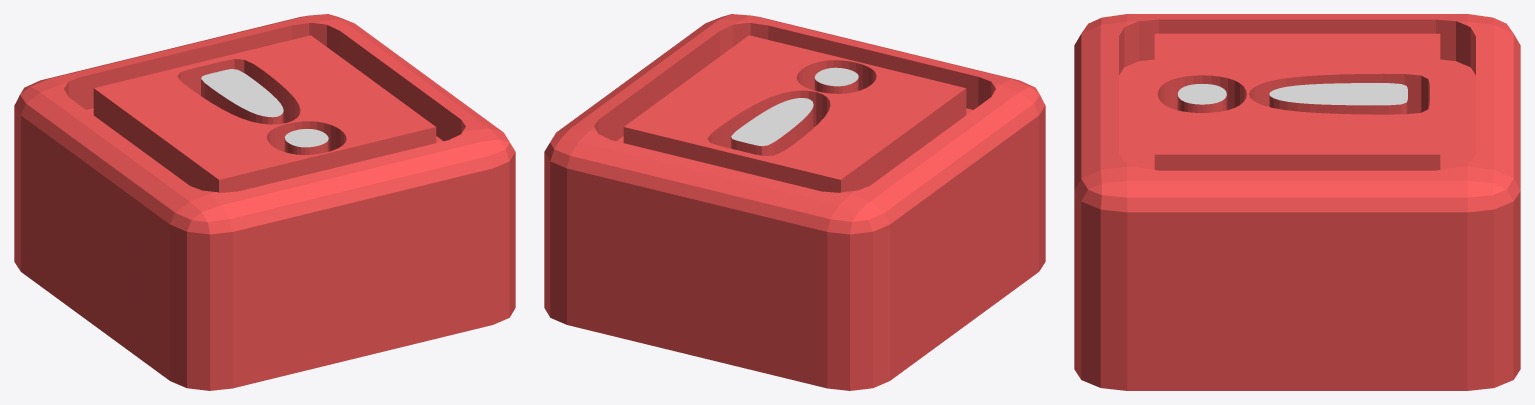
The model's file is tile_wall_error.glb.
The picture shows the model from 3 angles, left to right: view 1: azimuth 30°, elevation 25°; view 2: azimuth 150°, elevation 25°; view 3: azimuth 270°, elevation 25°; orthographic projection. The views are drawn at different scales.
Parts seen in each view (by area): view 1: Cube.011; view 2: Cube.011; view 3: Cube.011.
Part boxes in pixels (x1,y1,x2,y2): Cube.011: (14, 14, 515, 390); Cube.011: (544, 14, 1045, 390); Cube.011: (1074, 14, 1520, 390).
Bounding box in the file's own units: 1 × 0.5 × 1.
